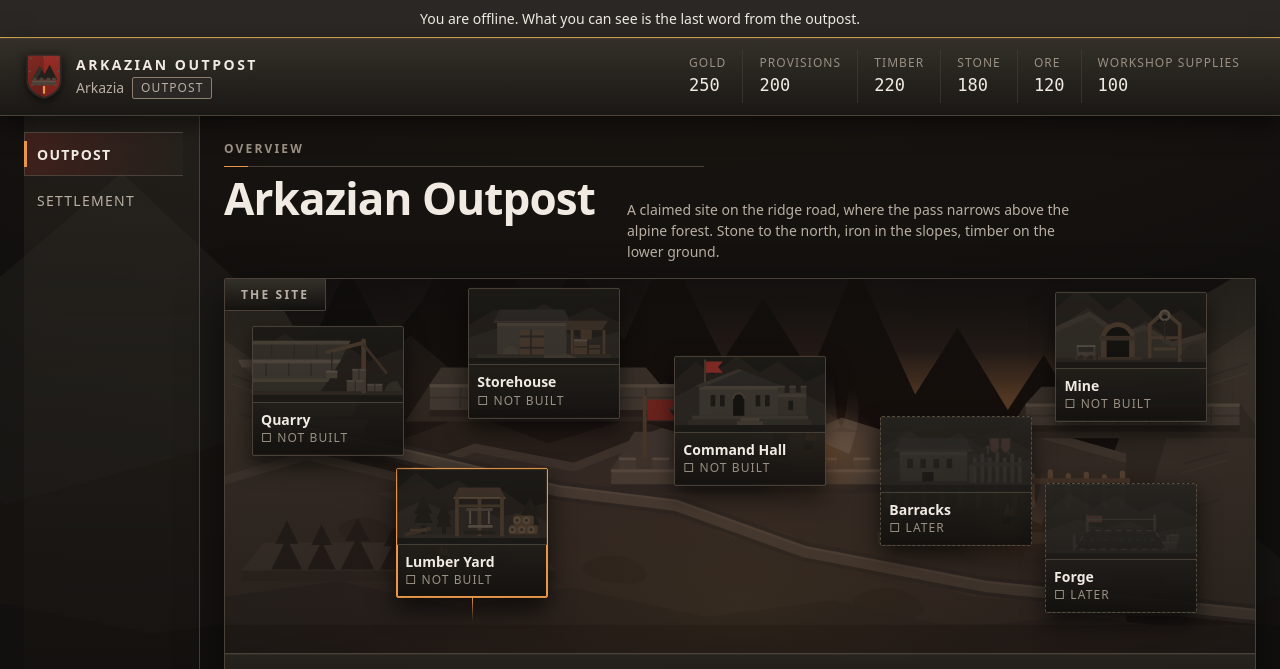
Test: Settlement › lists all seven buildings, with Barracks and Forge previewed and their reason given
The image size is (1280, 669).
Click the link "Settlement": (86, 200) [37,190,135,209]
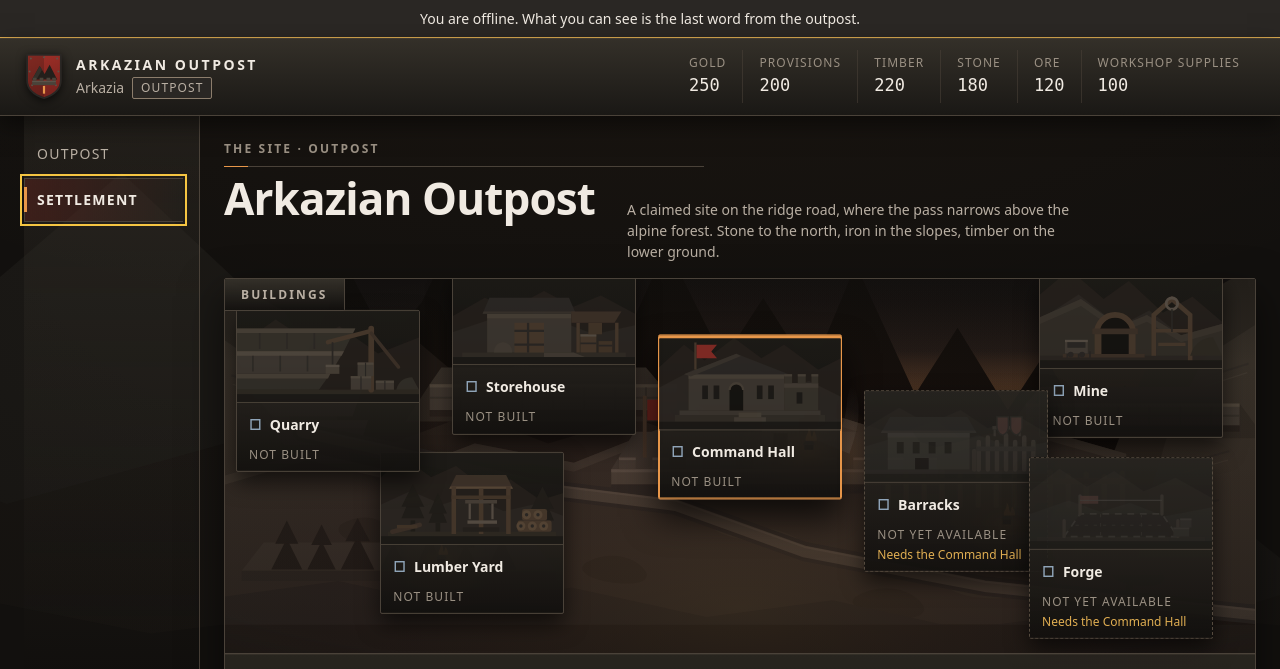
Now the 2nd text "Needs the Command Hall" is shown, box [1042,613,1186,630]
